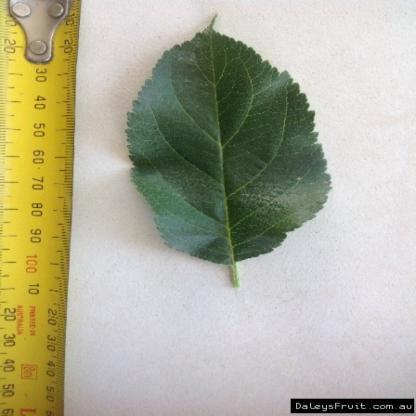Apple leaf: (112, 5, 346, 299)
